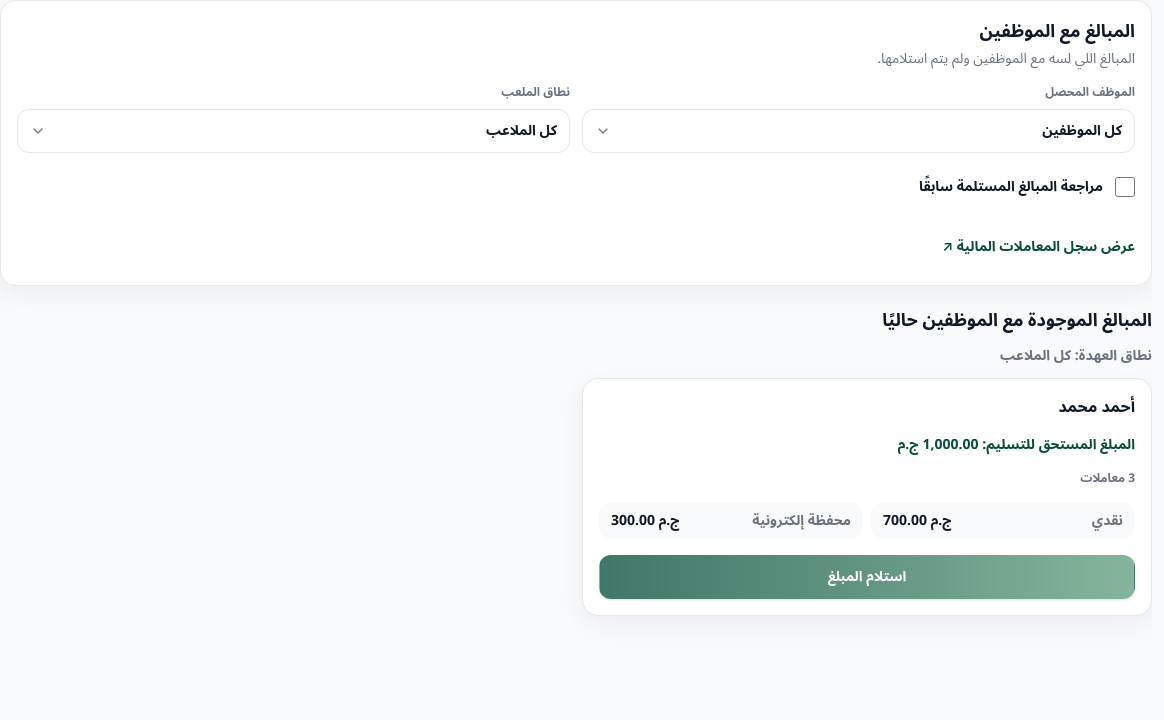
Test: SettlementsHubPage › sends the selected court only after explicit narrowing and removes it for all courts
Expected: the text "المبلغ المستحق للتسليم: 1,000.00 ج.م" is shown, [898,430,1135,459]
Step 1. Click the button named "نطاق الملعب" → (521, 130), box [17,109,570,153]
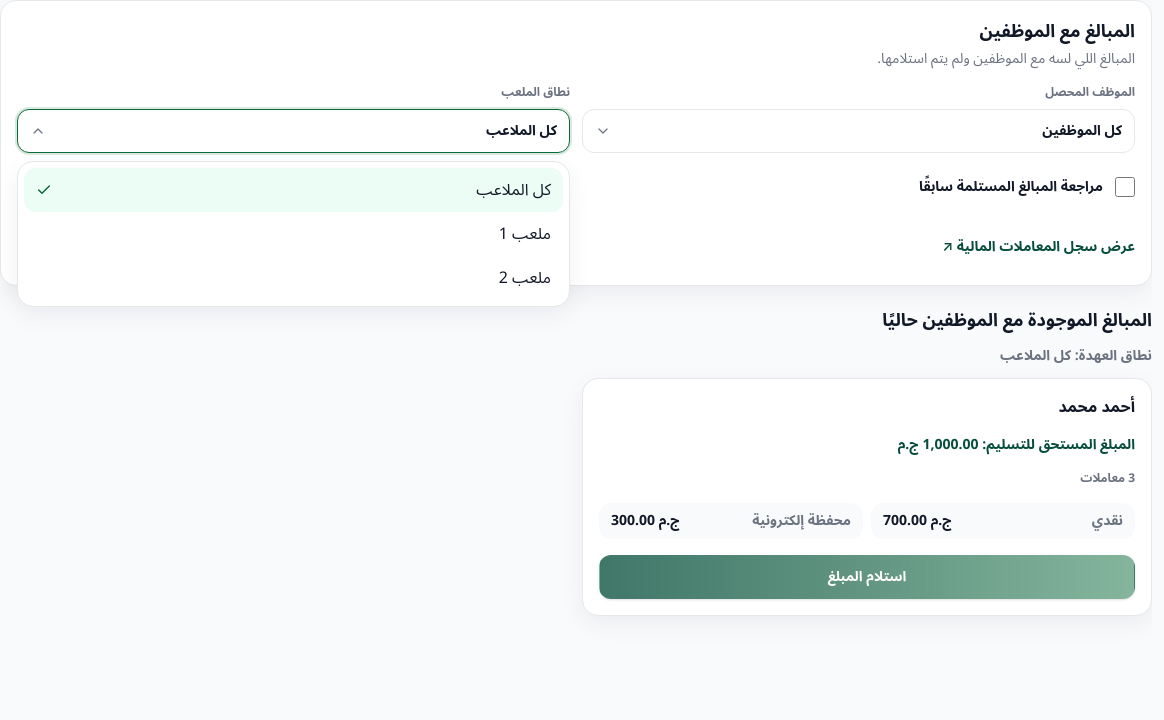
Step 2. Click the option "ملعب 1" → (529, 234), box [24,212,563,256]
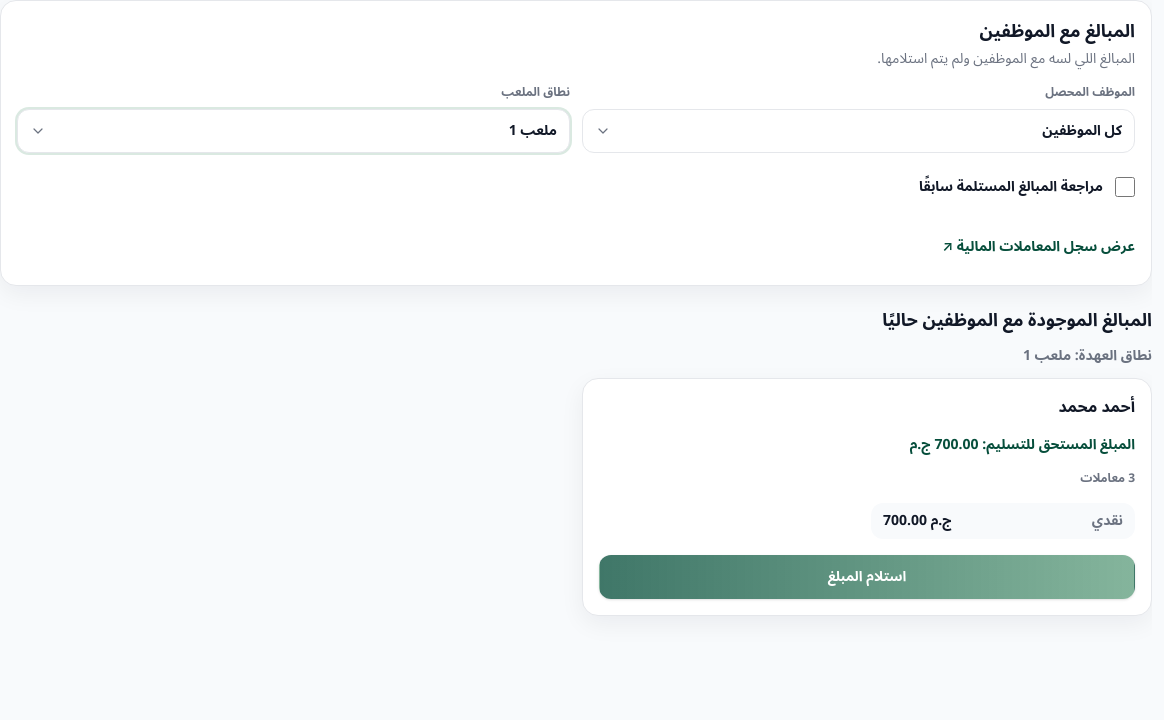
Now the text "المبلغ المستحق للتسليم: 700.00 ج.م" is shown, box [910,430,1135,459]
Step 3. Click the button named "نطاق الملعب" → (537, 130), box [17,109,570,153]
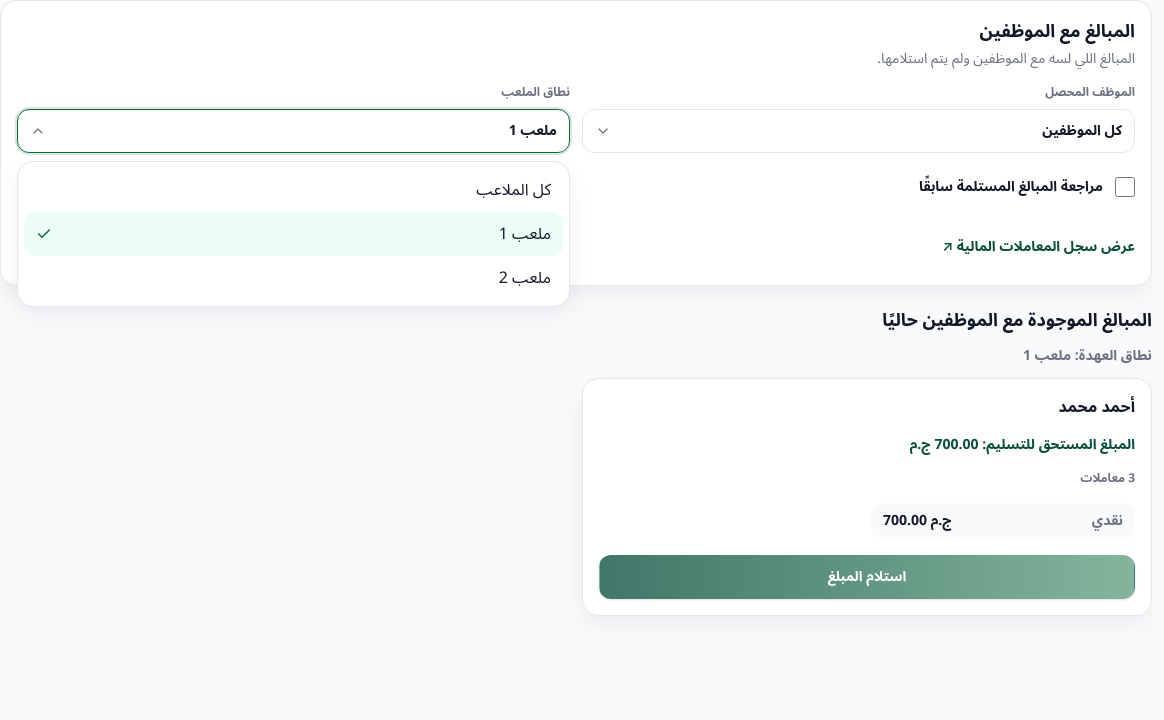
Step 4. Click the option "كل الملاعب" → (514, 190), box [24,168,563,212]
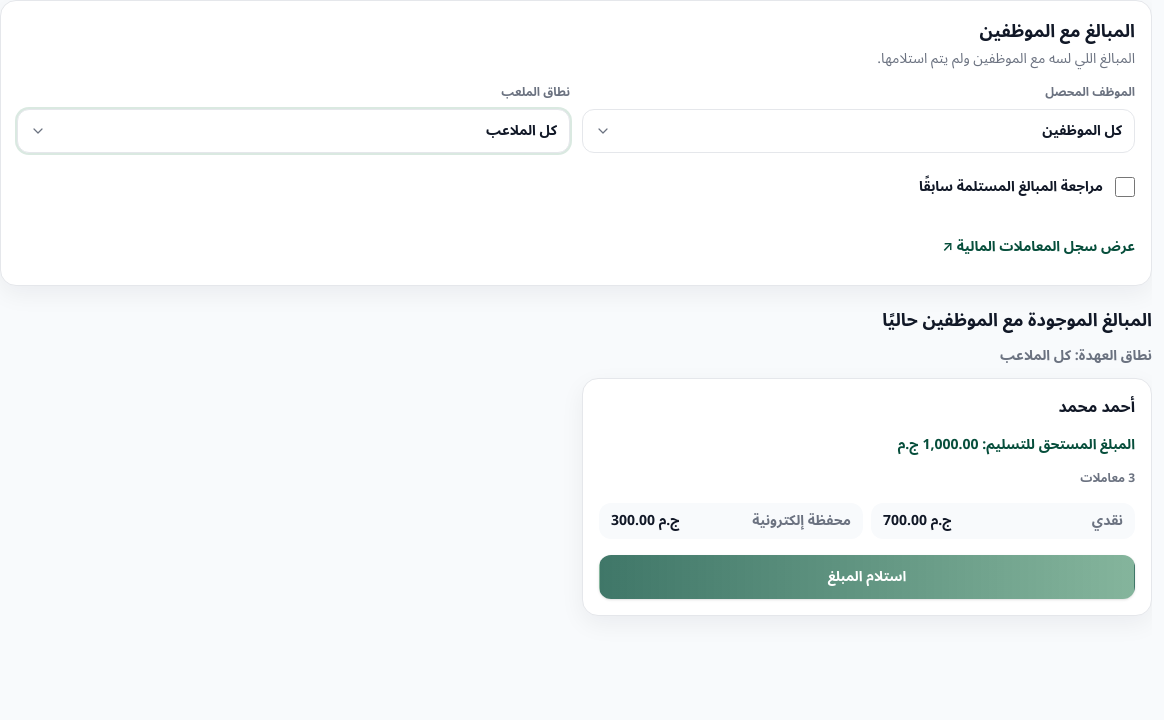
Now the text "المبلغ المستحق للتسليم: 1,000.00 ج.م" is shown, box [898,430,1135,459]
